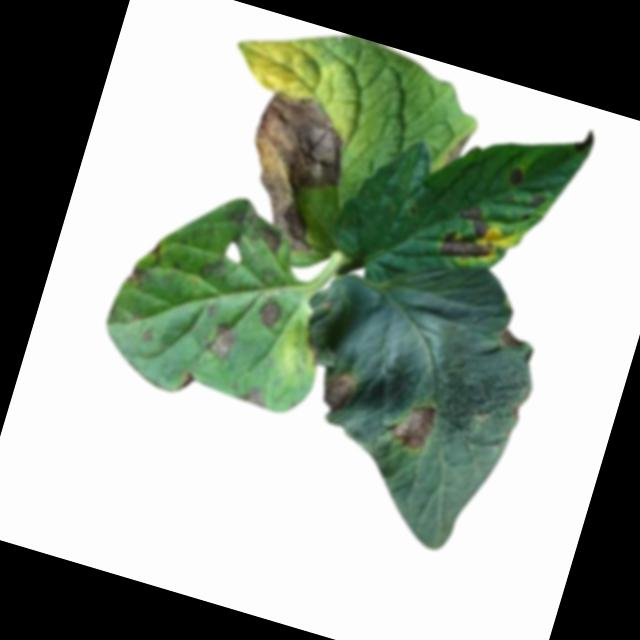Early_blight: (226, 89, 359, 255), (438, 198, 501, 268), (387, 394, 442, 456), (317, 365, 362, 417), (202, 320, 243, 364), (442, 127, 471, 172), (491, 326, 528, 356), (257, 298, 284, 329), (239, 385, 270, 412), (572, 125, 597, 157), (254, 228, 282, 254), (124, 264, 149, 289), (506, 166, 527, 190), (178, 372, 198, 393), (528, 195, 546, 212)
